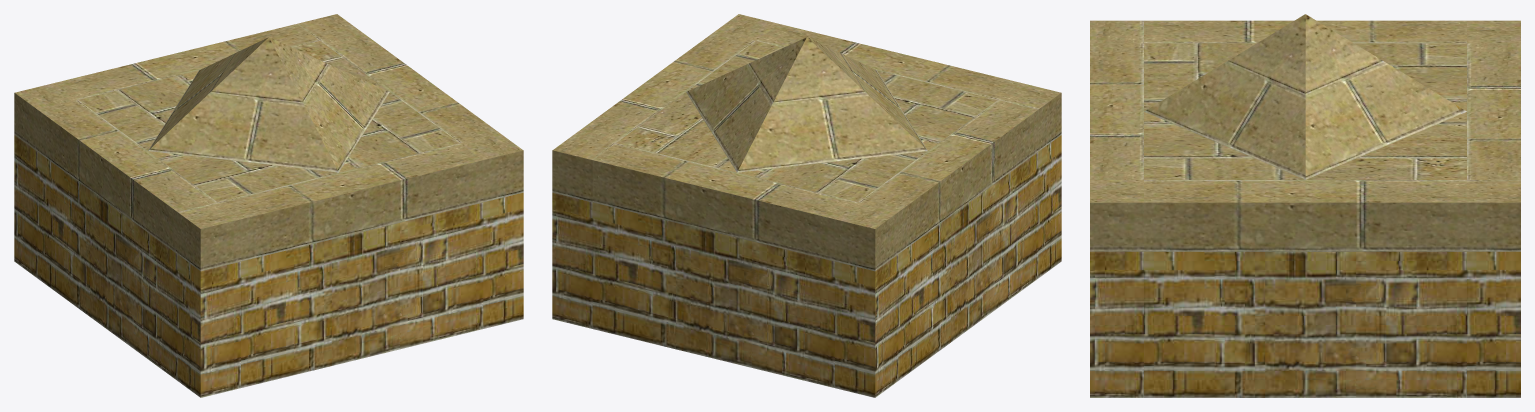
Rendered from zdWallCenterCap10x1.fbx.
The picture shows the model from 3 angles, left to right: view 1: azimuth 30°, elevation 25°; view 2: azimuth 150°, elevation 25°; view 3: azimuth 270°, elevation 25°; orthographic projection. The views are drawn at different scales.
Parts seen in each view (by area): view 1: SketchUp; view 2: SketchUp; view 3: SketchUp.
Part boxes in pixels (<box>): SketchUp: <box>14,14,523,397</box>; SketchUp: <box>552,14,1061,397</box>; SketchUp: <box>1090,14,1520,397</box>.
Bounding box in the file's own units: 0.8128 × 0.6096 × 0.8128.
